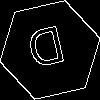D: (25, 25, 69, 78)
